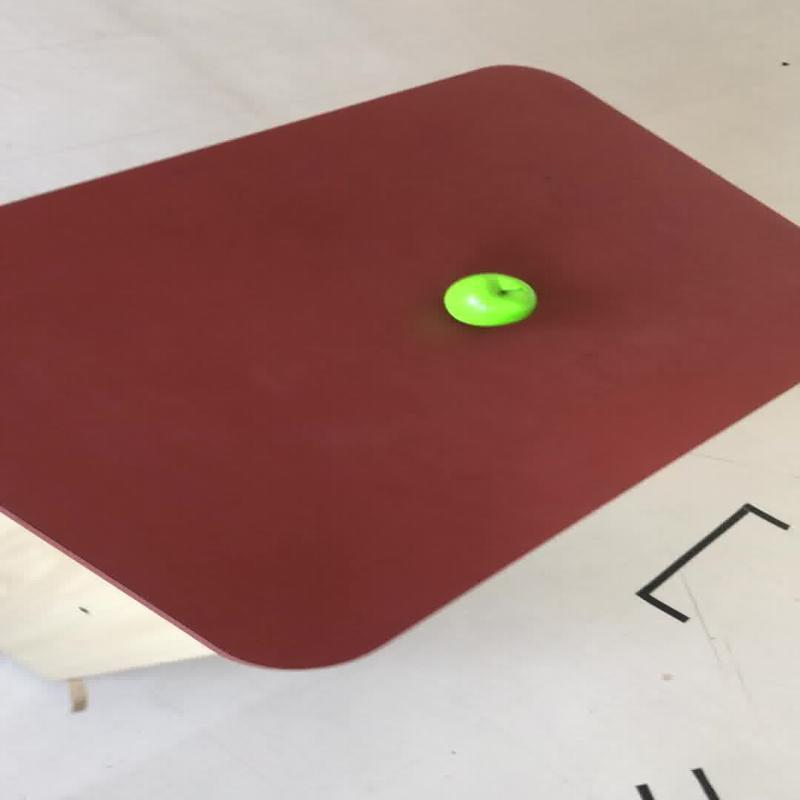apple: (440, 272, 536, 326)
